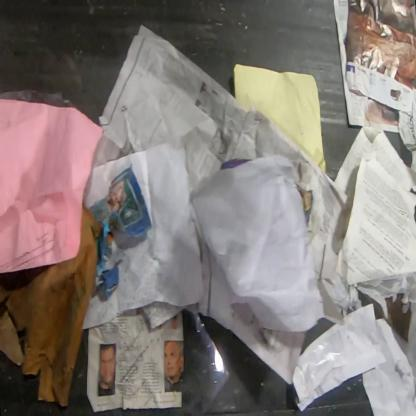cardboard: (0, 200, 102, 408), (356, 288, 412, 346)
soft_plastic: (169, 308, 256, 415), (0, 88, 77, 109)
